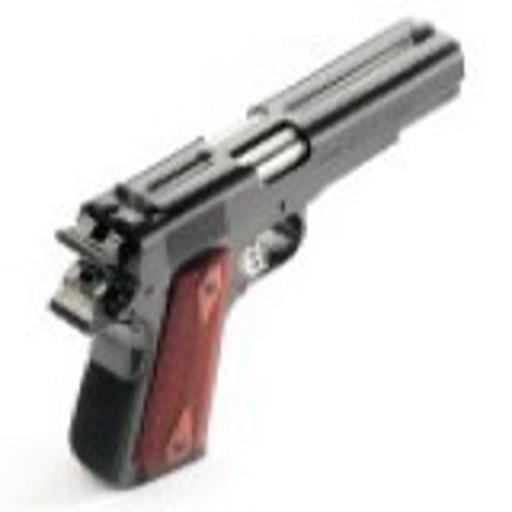Handgun: (40, 16, 469, 502)
